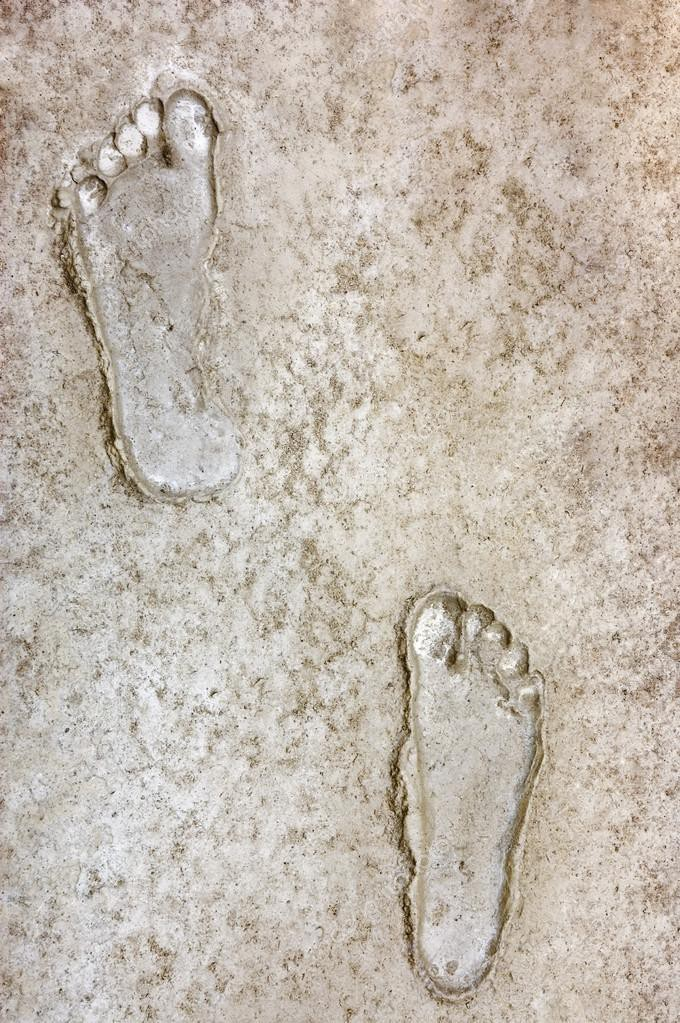human_footprint: (47, 83, 269, 513), (378, 571, 564, 1011)
